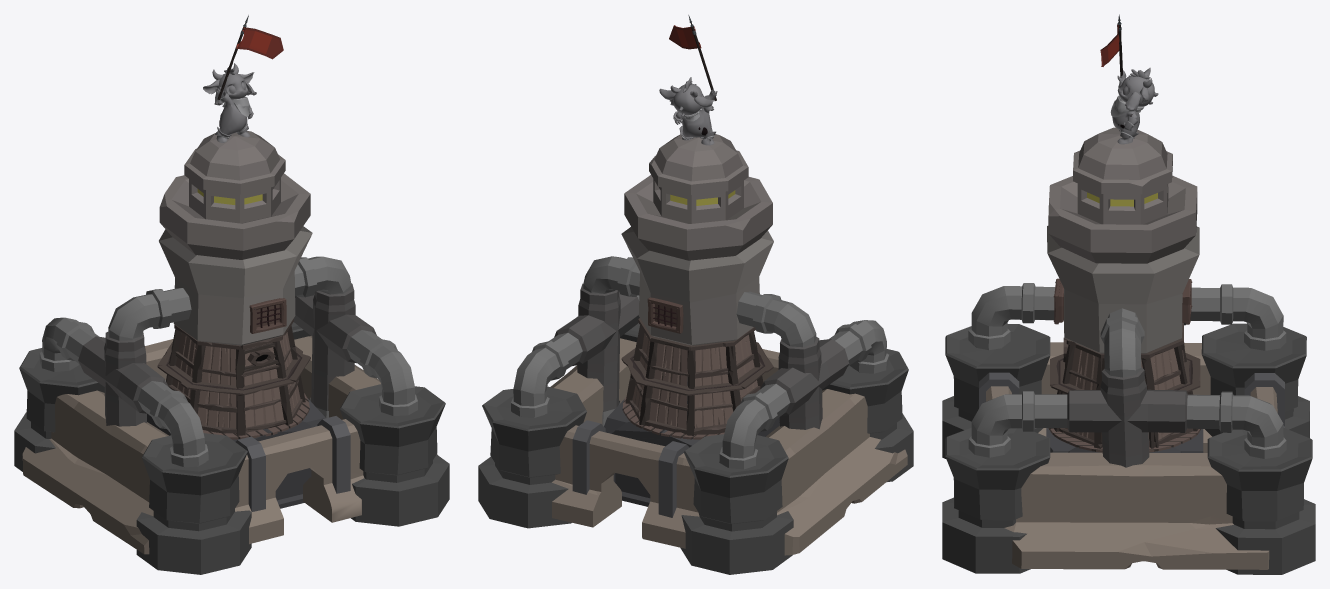
File: Main_Base.fbx
3 renders of one model, left to right at view 1: azimuth 30°, elevation 25°; view 2: azimuth 150°, elevation 25°; view 3: azimuth 270°, elevation 25°, orthographic. The views are drawn at different scales.
Parts seen in each view (by area): view 1: Main_base; view 2: Main_base; view 3: Main_base.
Boxes of the visible parts, bbox=[...] form: Main_base: bbox=[14, 15, 449, 574]; Main_base: bbox=[478, 15, 913, 574]; Main_base: bbox=[942, 14, 1315, 574].
Size of the model in its own units: 86.45 by 124 by 85.32.
